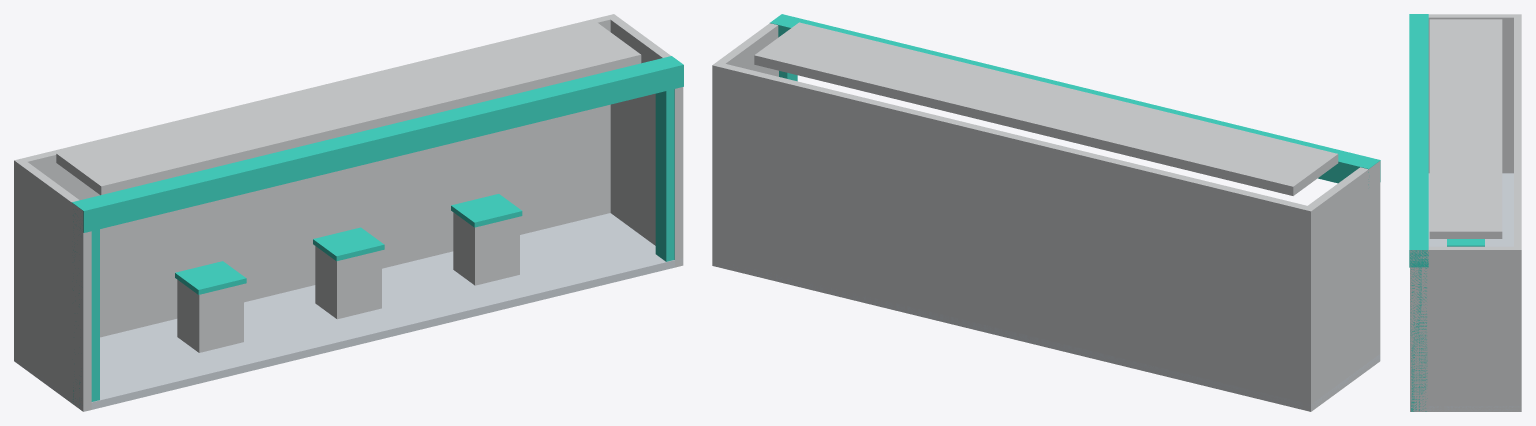
The picture shows the model from 3 angles, left to right: view 1: azimuth 30°, elevation 25°; view 2: azimuth 150°, elevation 25°; view 3: azimuth 270°, elevation 25°; orthographic projection. The views are drawn at different scales.
Visible parts, largest first — view 1: Exhibition Booth Concept; view 2: Exhibition Booth Concept; view 3: Exhibition Booth Concept.
Part boxes in pixels (x1=…): Exhibition Booth Concept: x1=14, y1=14, x2=683, y2=411; Exhibition Booth Concept: x1=712, y1=14, x2=1380, y2=411; Exhibition Booth Concept: x1=1409, y1=14, x2=1521, y2=411.
Size of the model in its own units: 10 by 3.34 by 2.01.
